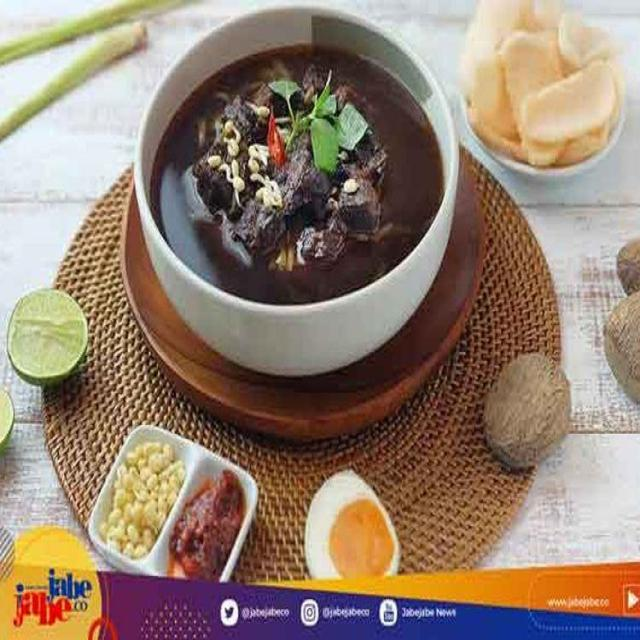Rawon: (138, 52, 440, 299)
